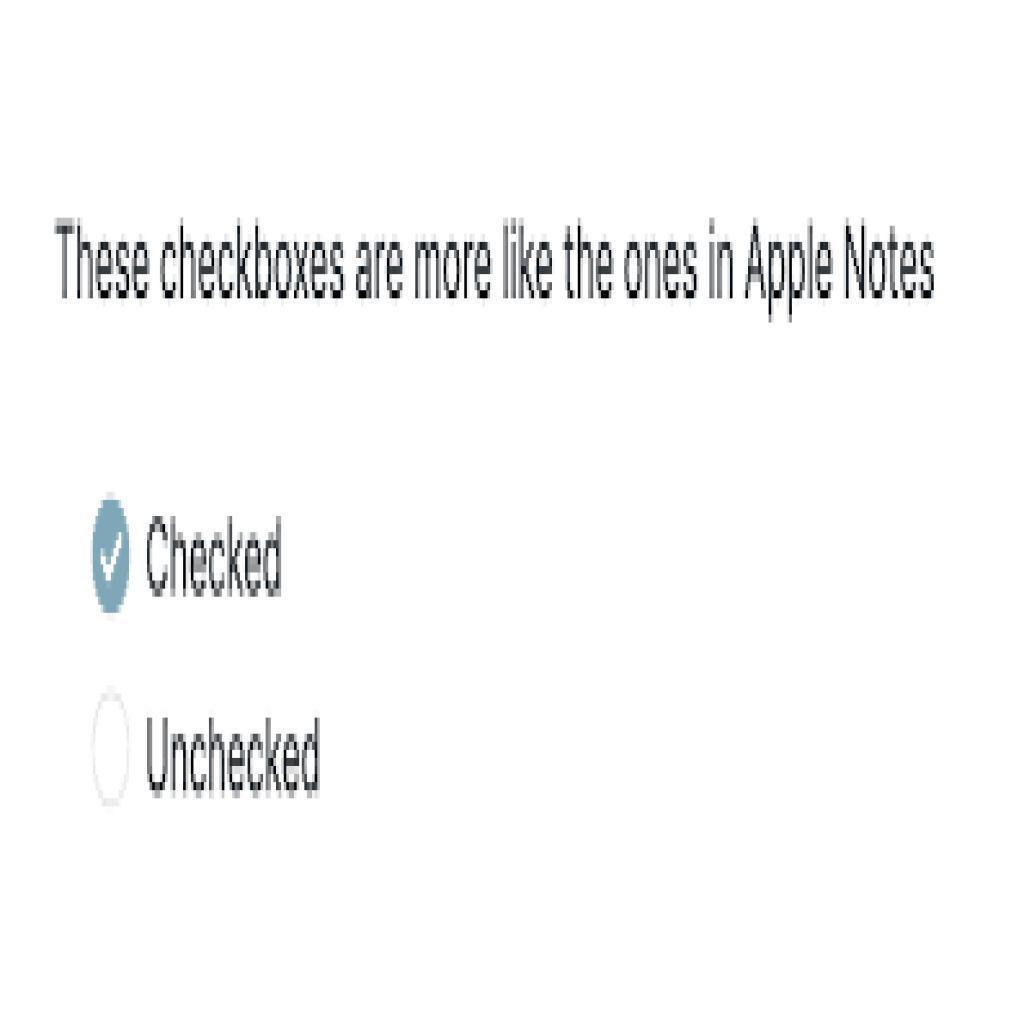checkbox: (84, 489, 136, 624)
radio: (87, 688, 137, 809)
